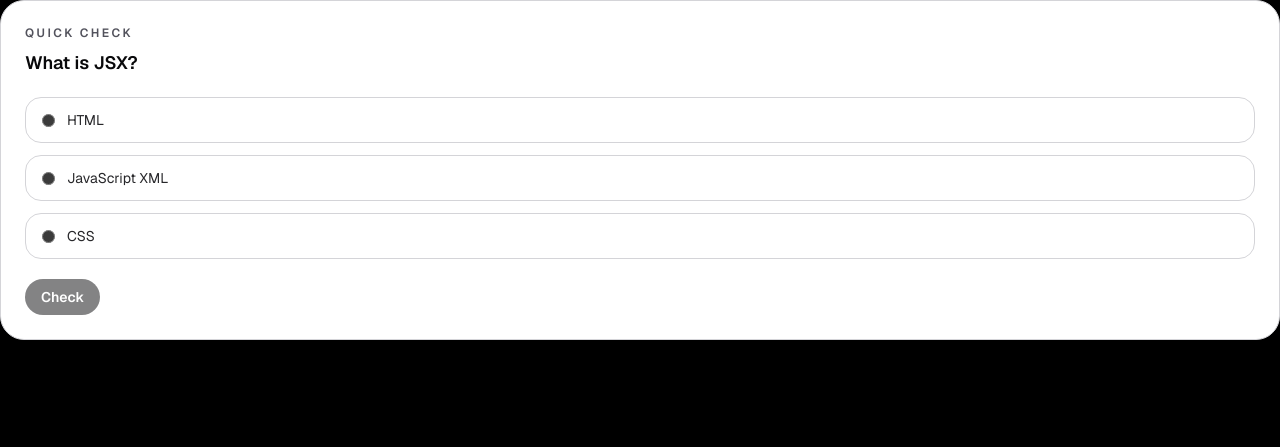
InlineQuiz › shows correct feedback on the right answer
Click the radio button labelled "JavaScript XML" at (48, 178), box [42,172,55,185]
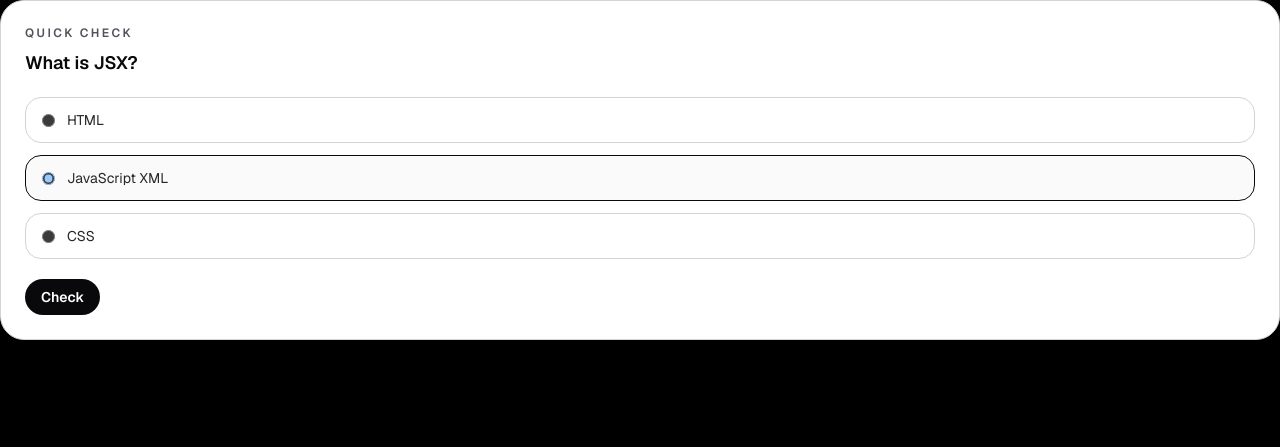
Click the button "Check" at (63, 297), box [25,279,100,315]
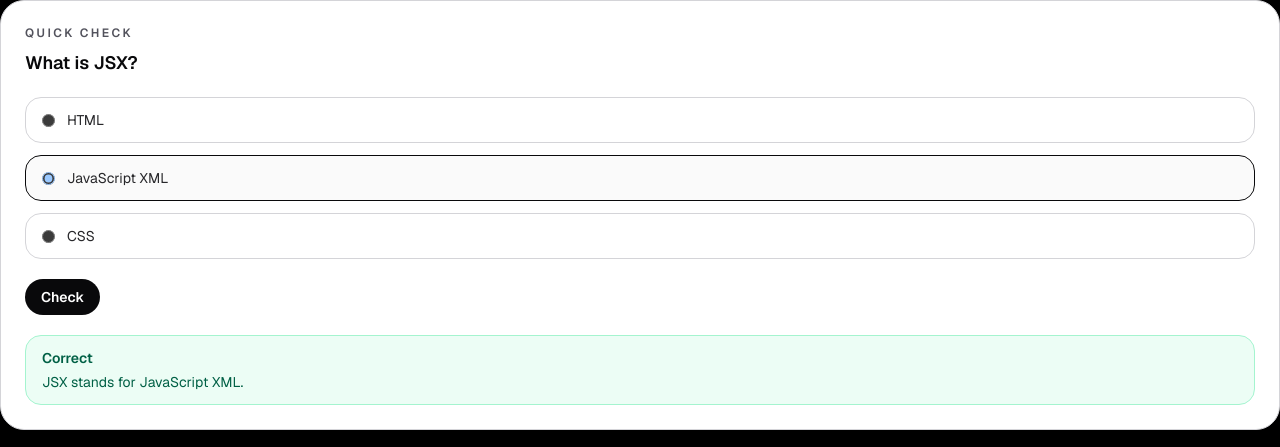
Result: the element with test id "quiz-feedback" shows "Correct" at [42,349,93,367]
Result: the element with test id "quiz-feedback" shows "JSX stands for JavaScript XML." at [42,373,243,391]
